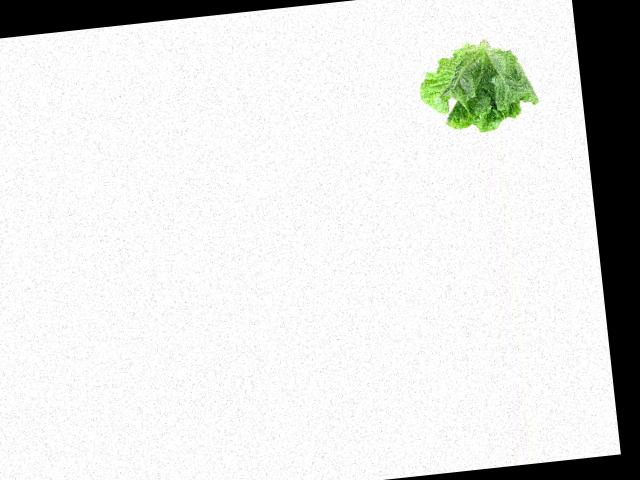lettuce: (416, 39, 543, 137)
